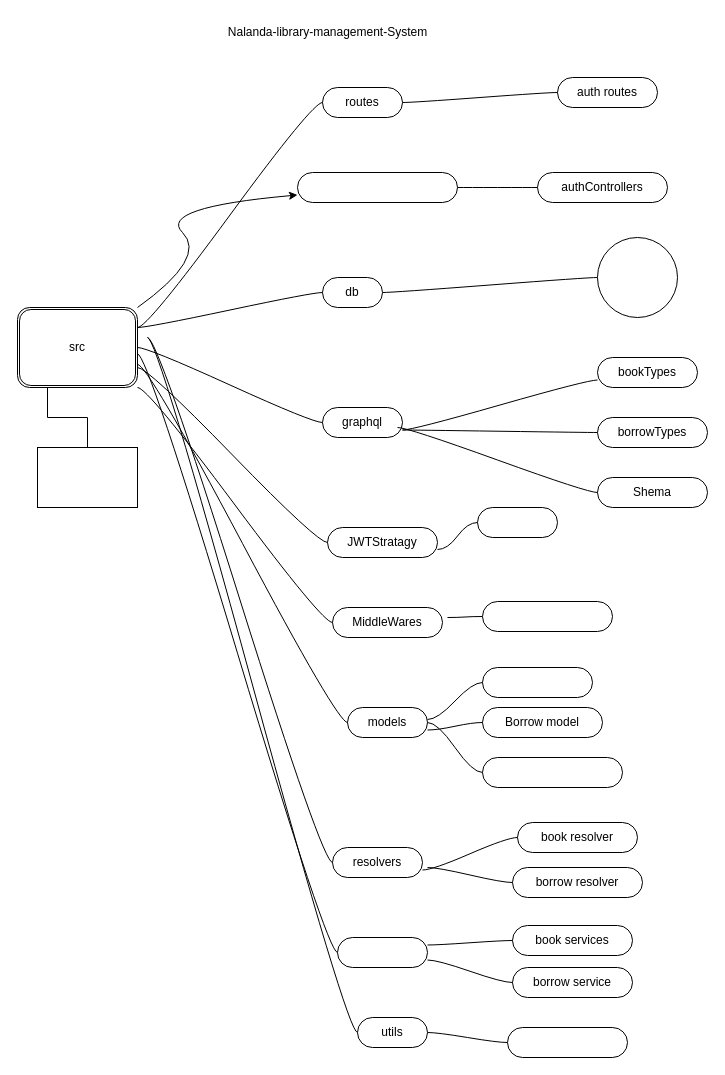
Image size: 725x1075. Some labels were removed from this diagram. Here are the shapes that lost their labels. From the top down, the centre of each, then its label:
At (x=377, y=187): "controllers (Rest Api's)".
At (x=637, y=277): "dataBase connection".
At (x=87, y=477): "main.js".
At (x=517, y=522): "jwtSign".
At (x=547, y=616): "authMiddleware".
At (x=537, y=682): "Book model".
At (x=552, y=772): "User model(auth)".
At (x=382, y=952): "services".
At (x=567, y=1042): "custom Errors".
